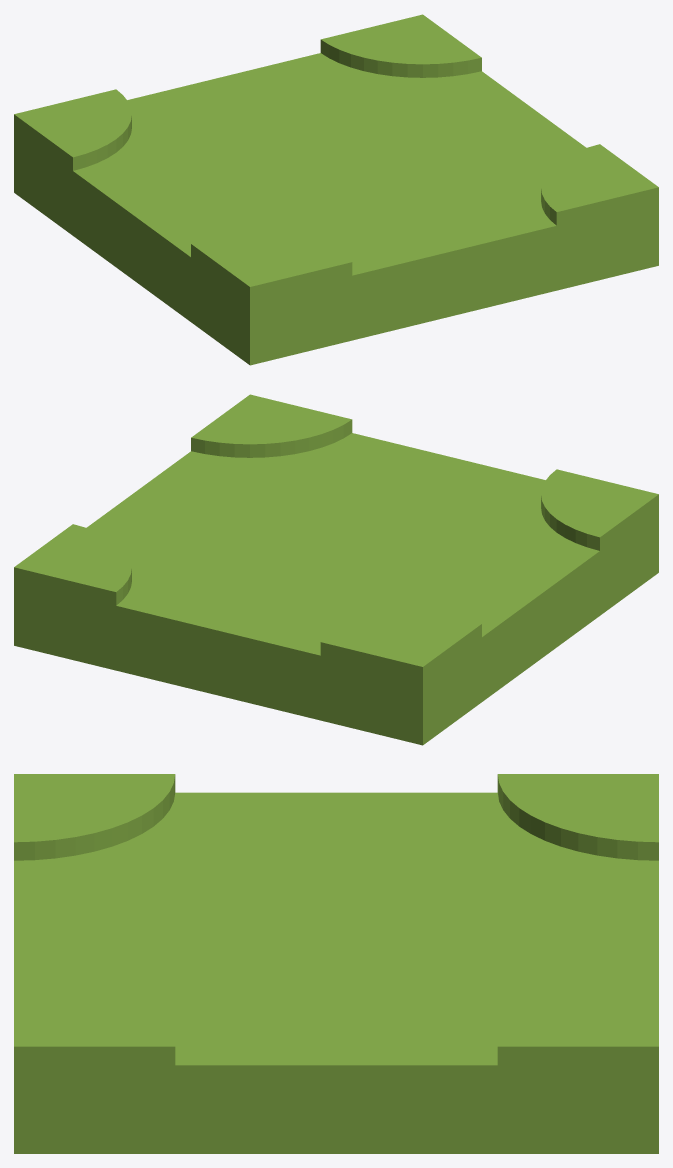
Rendered from roadtile_173.glb.
The picture shows the model from 3 angles, top to bottom: view 1: azimuth 30°, elevation 25°; view 2: azimuth 150°, elevation 25°; view 3: azimuth 270°, elevation 25°; orthographic projection. The views are drawn at different scales.
Visible parts, largest first — view 1: Mesh1 Group1 Model; view 2: Mesh1 Group1 Model; view 3: Mesh1 Group1 Model.
Boxes of the visible parts, x1,y1,x2,y2 form: Mesh1 Group1 Model: (14, 14, 658, 365); Mesh1 Group1 Model: (14, 394, 658, 745); Mesh1 Group1 Model: (14, 774, 658, 1153).
Bounding box in the file's own units: 3 × 0.55 × 3.
